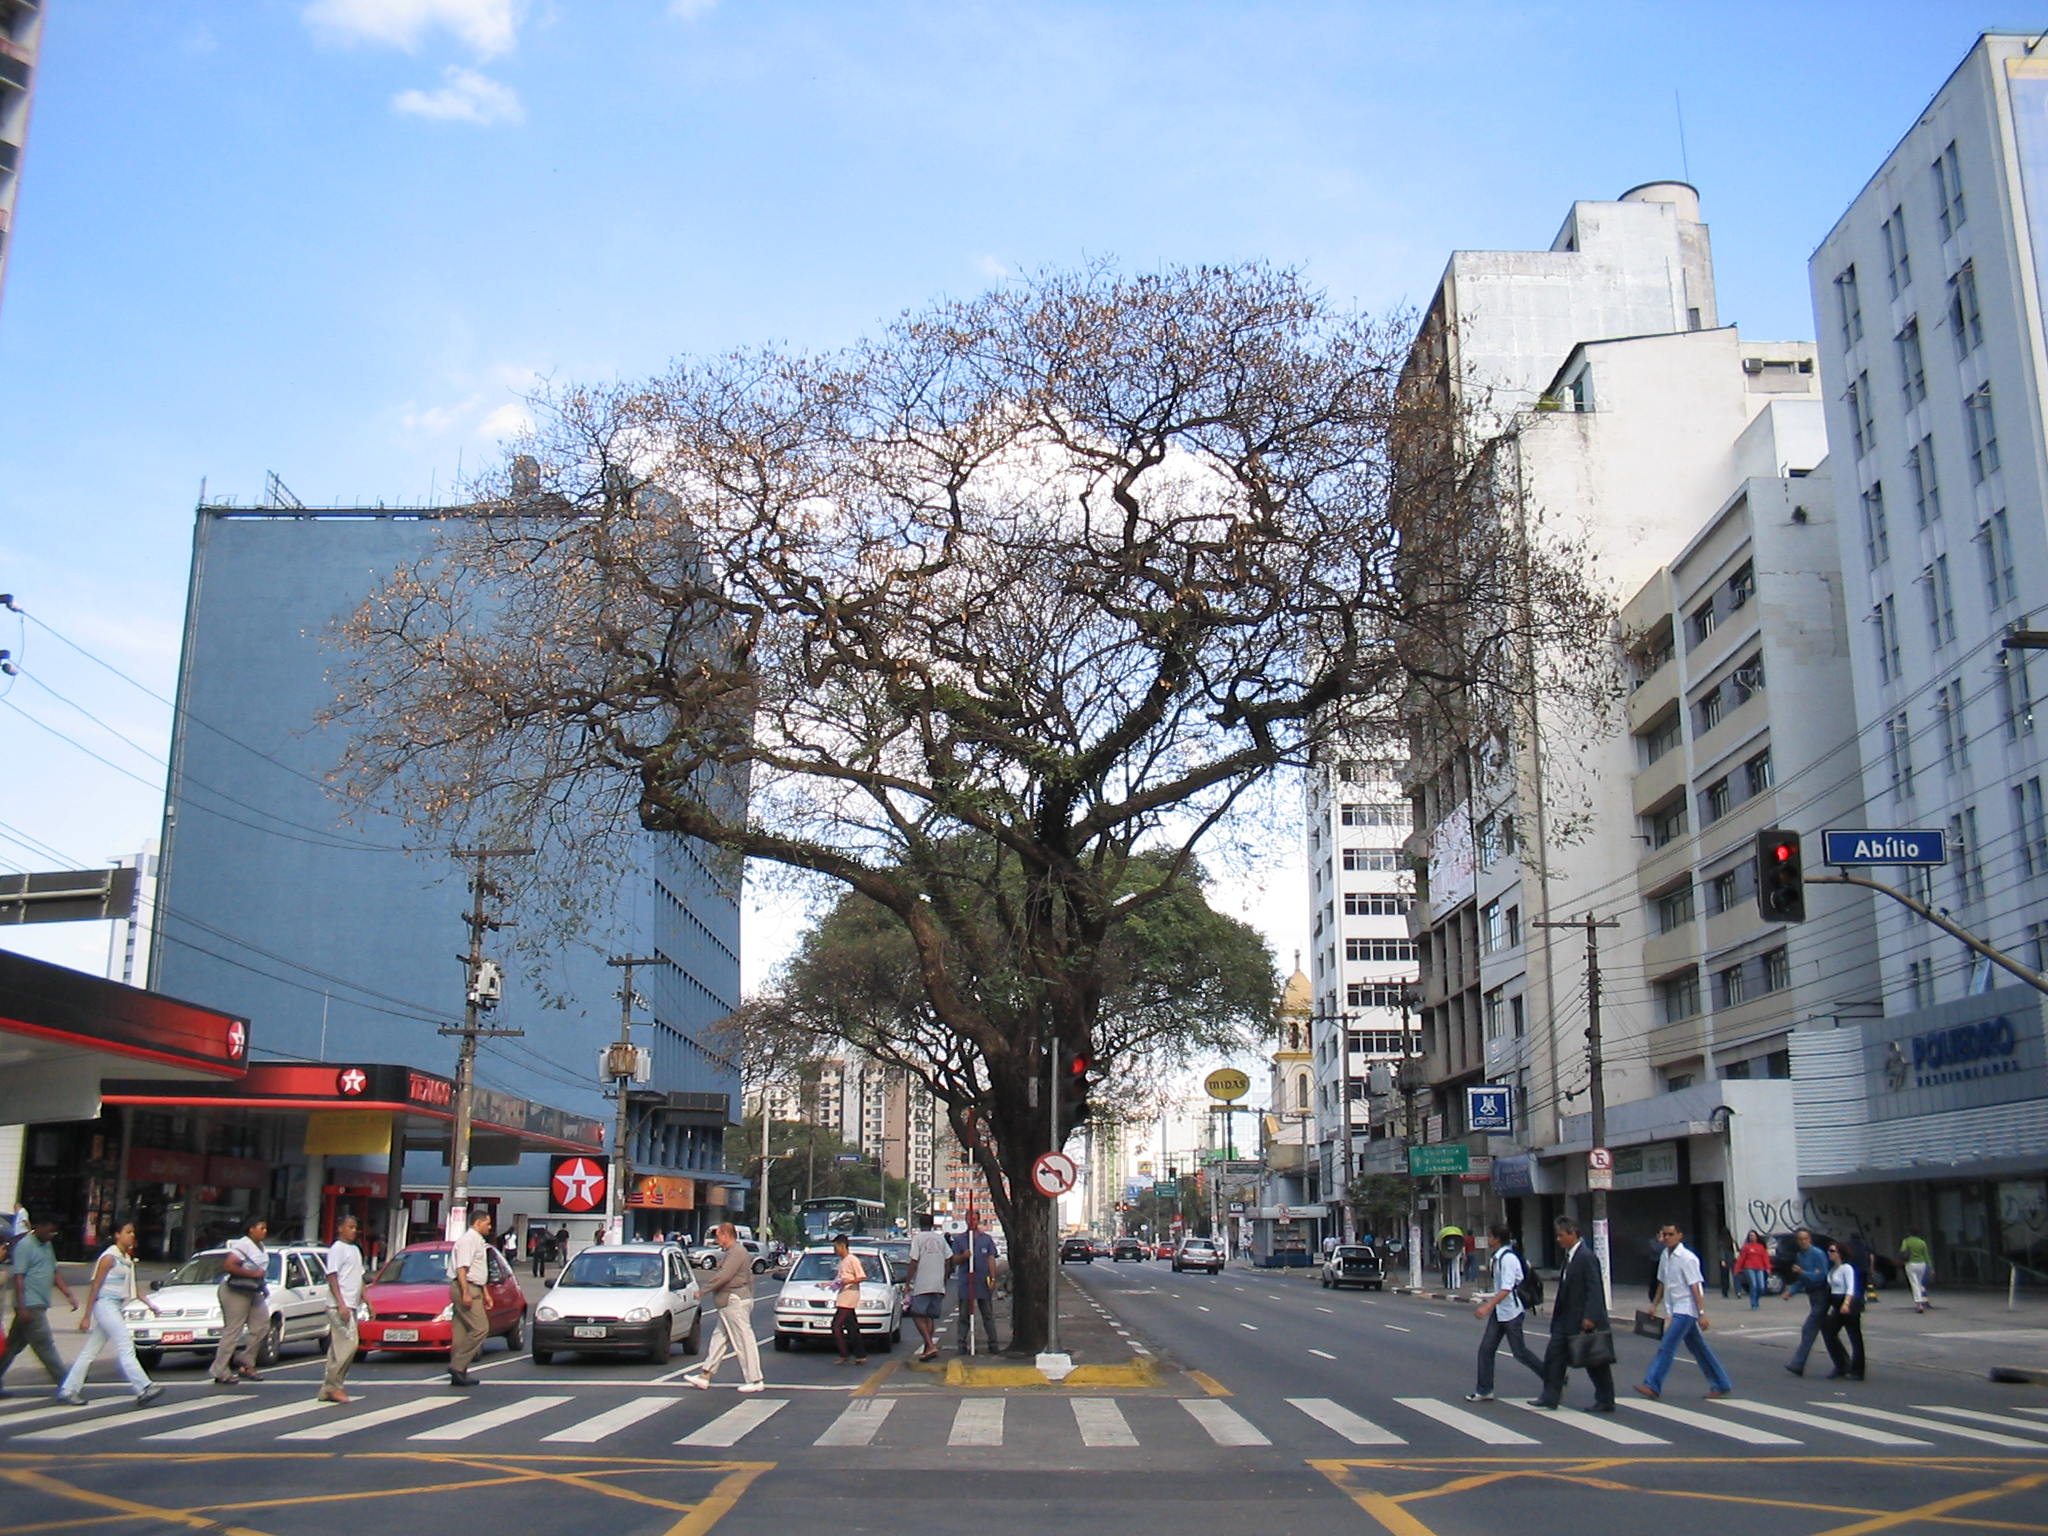crown: (306, 258, 1663, 1018)
stem: (989, 1221, 1089, 1347)
stick: (956, 1107, 985, 1354)
tree: (295, 257, 1666, 1355)
